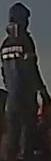gloves: (40, 88, 51, 109)
vest: (0, 32, 40, 95)
